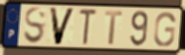9: (129, 10, 149, 48)
G: (152, 11, 177, 48)
S: (22, 6, 47, 46)
T: (78, 8, 99, 47), (104, 10, 124, 46)
V: (48, 6, 77, 46)
